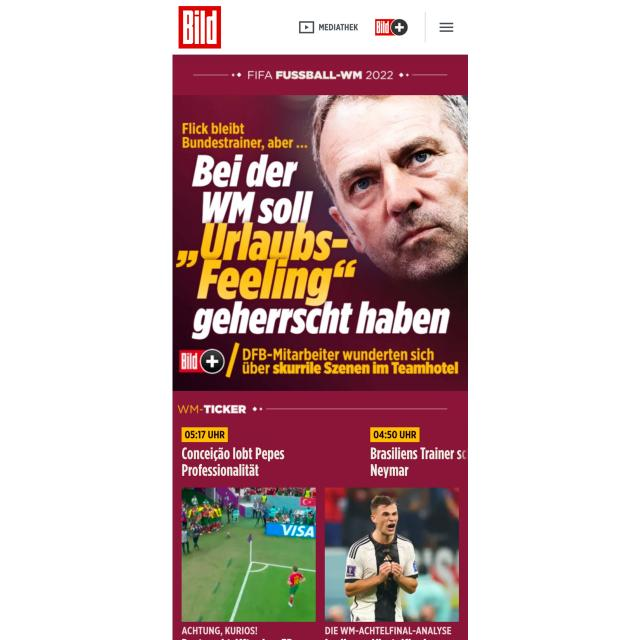logo: (176, 5, 222, 50)
navigation: (438, 21, 455, 34)
